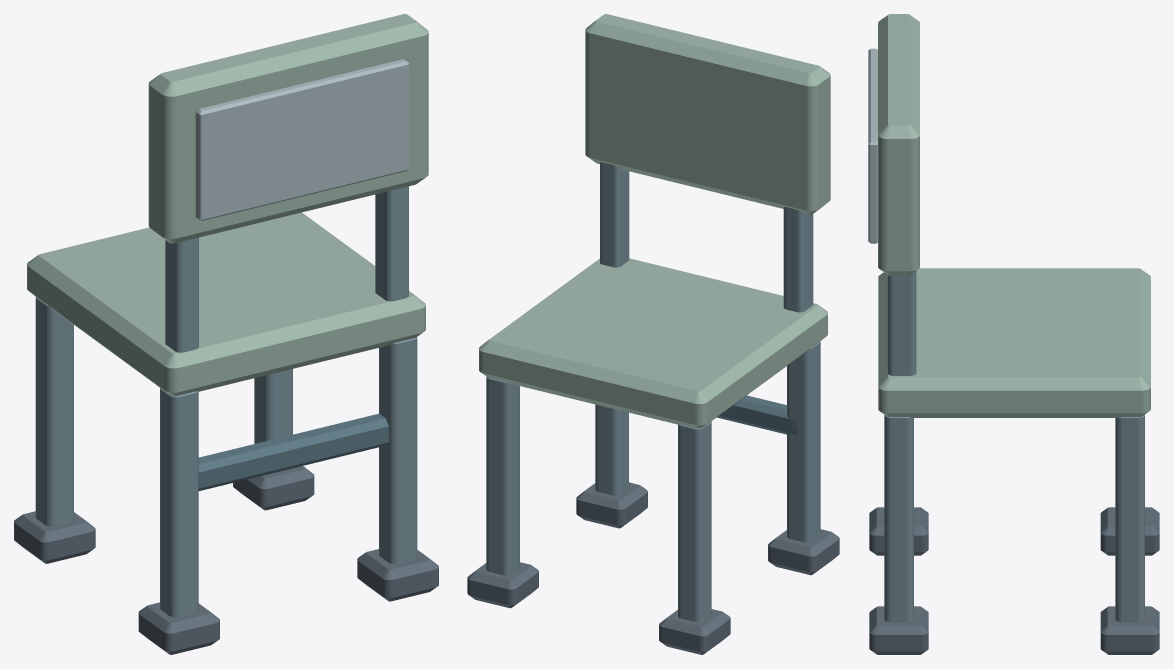
Rendered from visitation_chair.glb.
The picture shows the model from 3 angles, left to right: view 1: azimuth 30°, elevation 25°; view 2: azimuth 150°, elevation 25°; view 3: azimuth 270°, elevation 25°; orthographic projection. The views are drawn at different scales.
Visible parts, largest first — view 1: 008_rounded_seat, 011_high_back, 012_back_plate, 002_welded_steel_leg, 000_welded_steel_leg, 006_welded_steel_leg, 013_leg_crossbrace, 009_back_support, 010_back_support, 001_rubber_foot, 007_rubber_foot, 003_rubber_foot (+2 smaller); view 2: 008_rounded_seat, 011_high_back, 000_welded_steel_leg, 004_welded_steel_leg, 002_welded_steel_leg, 009_back_support, 010_back_support, 006_welded_steel_leg, 007_rubber_foot, 003_rubber_foot, 005_rubber_foot, 001_rubber_foot (+1 smaller); view 3: 008_rounded_seat, 011_high_back, 004_welded_steel_leg, 006_welded_steel_leg, 010_back_support, 007_rubber_foot, 005_rubber_foot, 012_back_plate, 001_rubber_foot, 003_rubber_foot.
Boxes of the visible parts, bbox=[...] form: 008_rounded_seat: bbox=[27, 212, 425, 396]; 011_high_back: bbox=[148, 14, 428, 243]; 012_back_plate: bbox=[195, 59, 409, 220]; 002_welded_steel_leg: bbox=[160, 388, 198, 617]; 000_welded_steel_leg: bbox=[35, 297, 73, 526]; 006_welded_steel_leg: bbox=[379, 337, 417, 564]; 013_leg_crossbrace: bbox=[198, 413, 388, 490]; 009_back_support: bbox=[165, 237, 198, 352]; 010_back_support: bbox=[375, 186, 408, 301]; 001_rubber_foot: bbox=[14, 511, 95, 563]; 007_rubber_foot: bbox=[357, 549, 438, 601]; 003_rubber_foot: bbox=[138, 602, 219, 654]; 008_rounded_seat: bbox=[479, 258, 827, 428]; 011_high_back: bbox=[585, 14, 830, 215]; 000_welded_steel_leg: bbox=[678, 421, 711, 622]; 004_welded_steel_leg: bbox=[486, 376, 519, 575]; 002_welded_steel_leg: bbox=[787, 341, 820, 542]; 009_back_support: bbox=[783, 207, 813, 312]; 010_back_support: bbox=[600, 162, 629, 267]; 006_welded_steel_leg: bbox=[595, 404, 628, 495]; 007_rubber_foot: bbox=[576, 482, 647, 528]; 003_rubber_foot: bbox=[768, 529, 839, 575]; 005_rubber_foot: bbox=[467, 562, 538, 608]; 001_rubber_foot: bbox=[659, 609, 730, 654]; 008_rounded_seat: bbox=[878, 268, 1150, 417]; 011_high_back: bbox=[878, 14, 919, 275]; 004_welded_steel_leg: bbox=[1115, 414, 1144, 622]; 006_welded_steel_leg: bbox=[884, 415, 913, 622]; 010_back_support: bbox=[887, 271, 916, 375]; 007_rubber_foot: bbox=[869, 606, 928, 654]; 005_rubber_foot: bbox=[1100, 606, 1159, 654]; 012_back_plate: bbox=[868, 48, 877, 243]; 001_rubber_foot: bbox=[1100, 507, 1159, 555]; 003_rubber_foot: bbox=[869, 507, 928, 555].
Size of the model in its own units: 0.496 by 0.9795 by 0.492.
